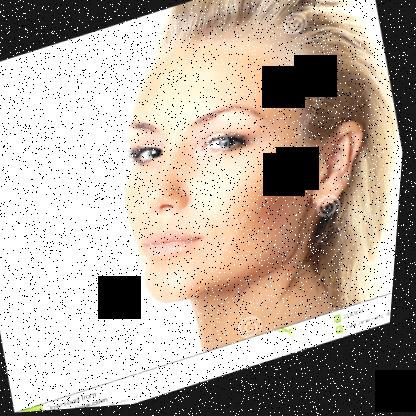Female: (89, 0, 400, 317)
